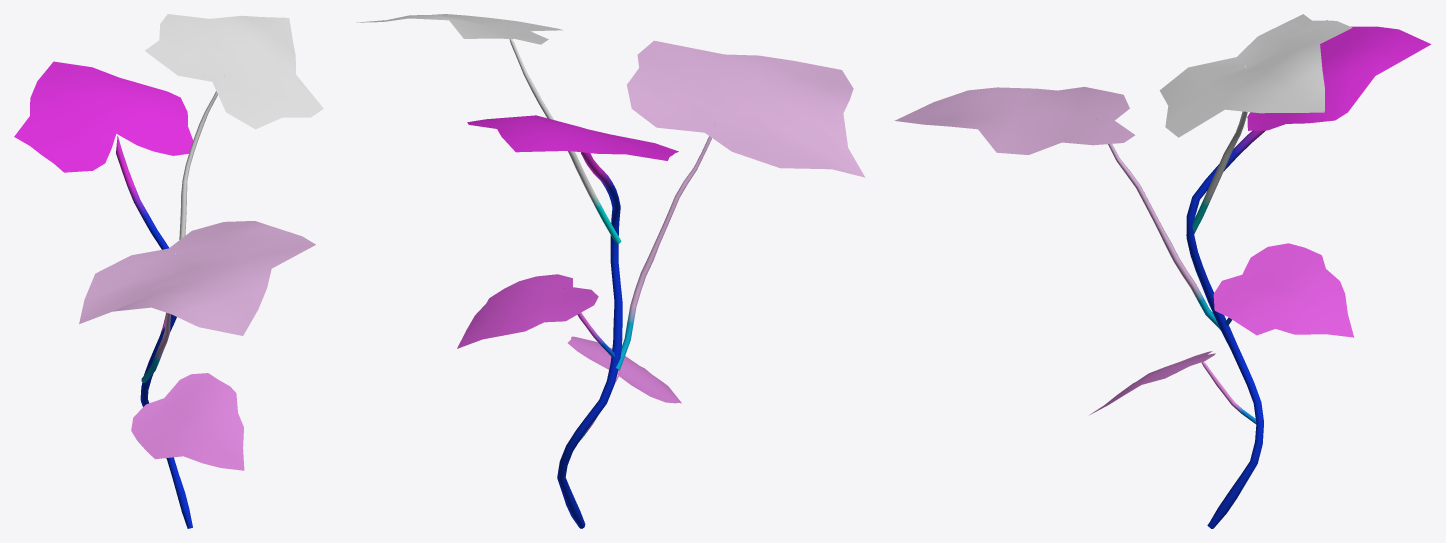
The model's file is English_Ivy_xfcnebhqx_High_xfcnebhqx_VarI_LOD0.fbx.
3 renders of one model, left to right at view 1: azimuth 30°, elevation 25°; view 2: azimuth 150°, elevation 25°; view 3: azimuth 270°, elevation 25°, orthographic. The views are drawn at different scales.
Visible parts, largest first — view 1: _8m3e_VarI_LOD0; view 2: _8m3e_VarI_LOD0; view 3: _8m3e_VarI_LOD0.
Part boxes in pixels (x1,y1,x2,y2): _8m3e_VarI_LOD0: (14,14,323,528); _8m3e_VarI_LOD0: (356,14,865,528); _8m3e_VarI_LOD0: (894,14,1431,528).
Size of the model in its own units: 14.03 by 18.82 by 17.52.
